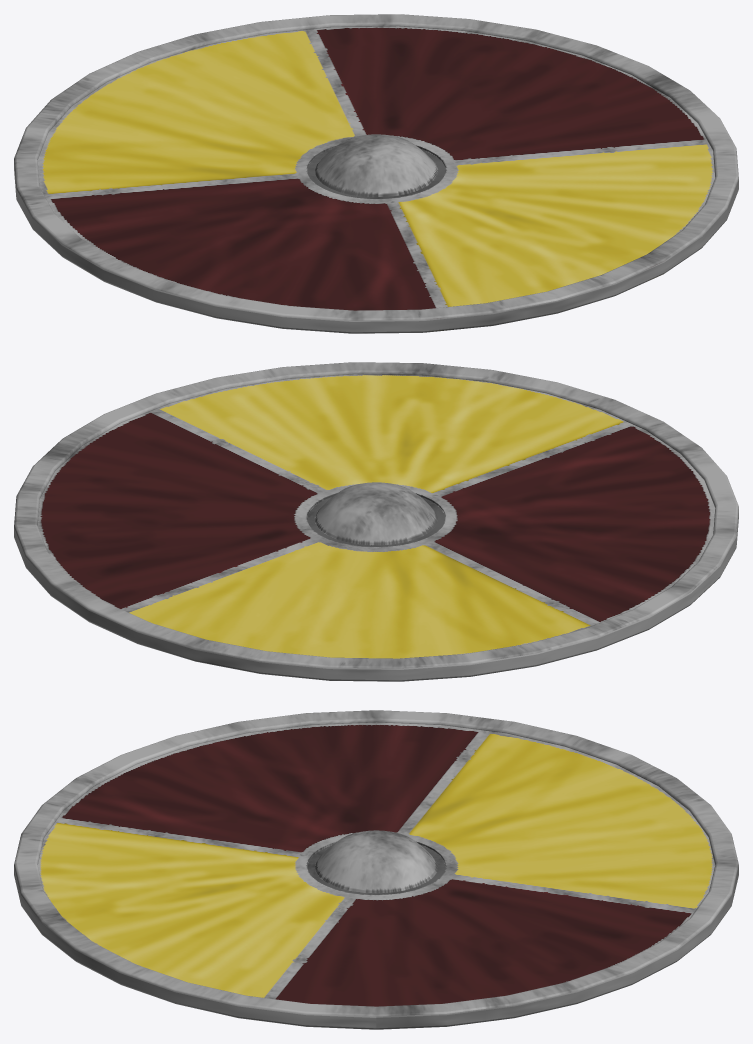
Rendered from Shield.fbx.
The picture shows the model from 3 angles, top to bottom: view 1: azimuth 30°, elevation 25°; view 2: azimuth 150°, elevation 25°; view 3: azimuth 270°, elevation 25°; orthographic projection.
Visible parts, largest first — view 1: Shield_LOD0; view 2: Shield_LOD0; view 3: Shield_LOD0.
Part boxes in pixels (x1,y1,x2,y2): Shield_LOD0: (14, 14, 738, 333); Shield_LOD0: (14, 362, 738, 681); Shield_LOD0: (14, 710, 738, 1029).
Size of what is drawn, in the model's own units: 41.92 by 3.85 by 41.92.
